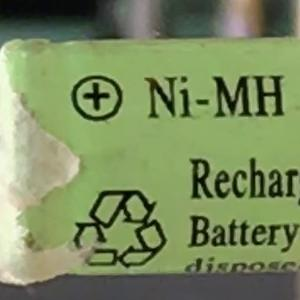NI-MH: (135, 66, 289, 128)
